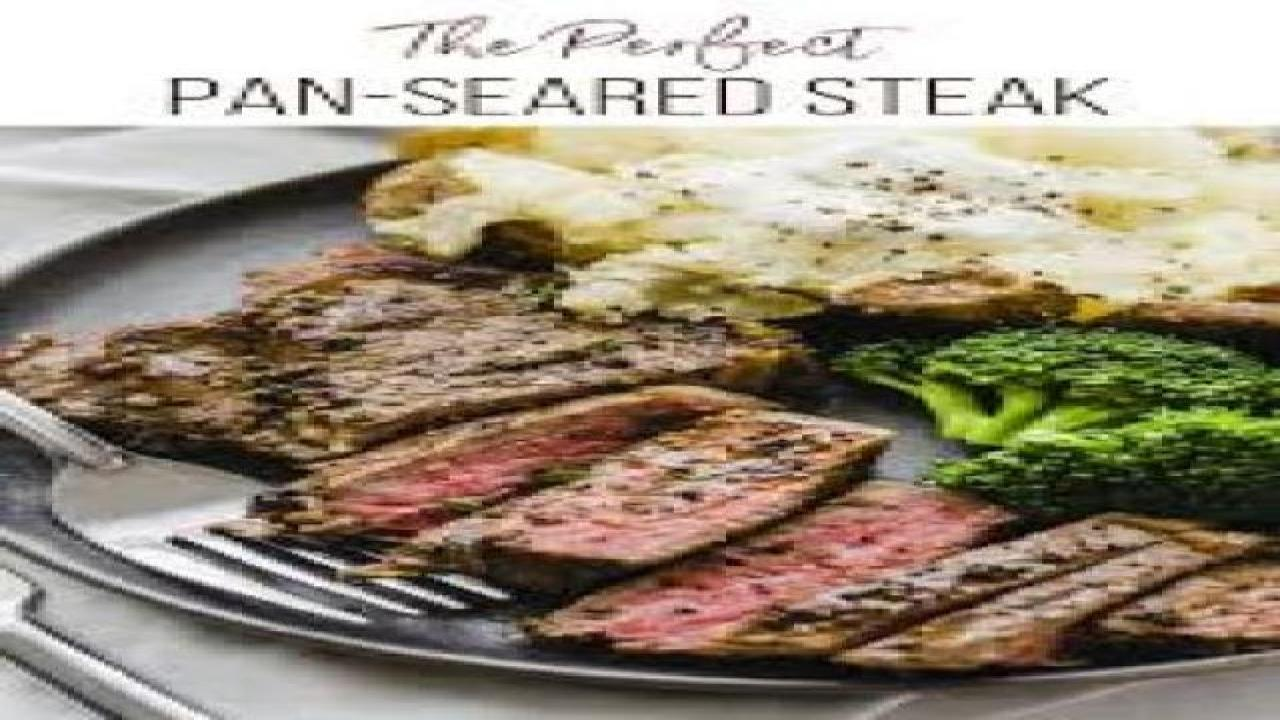Carne: (34, 243, 1266, 688)
